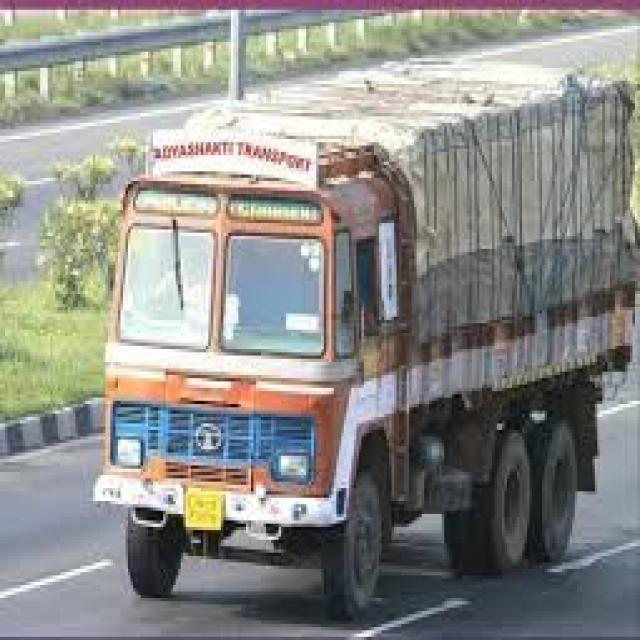covered: (88, 68, 638, 618)
